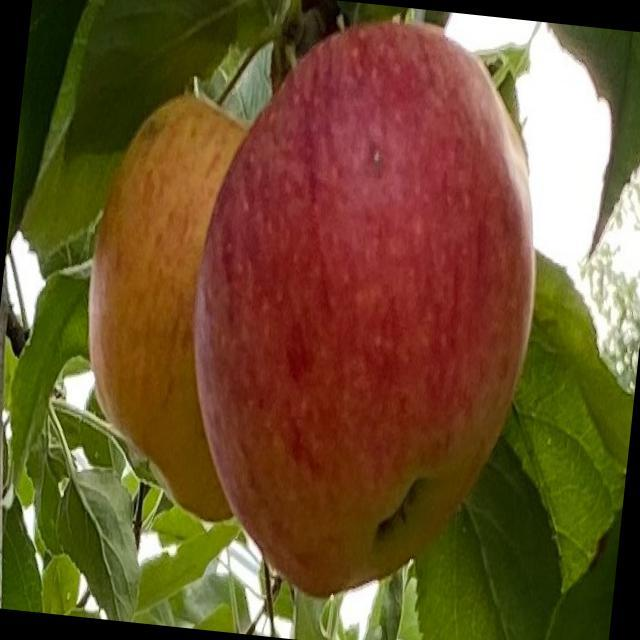100-_ripeness: (167, 7, 558, 614), (68, 92, 274, 522)
